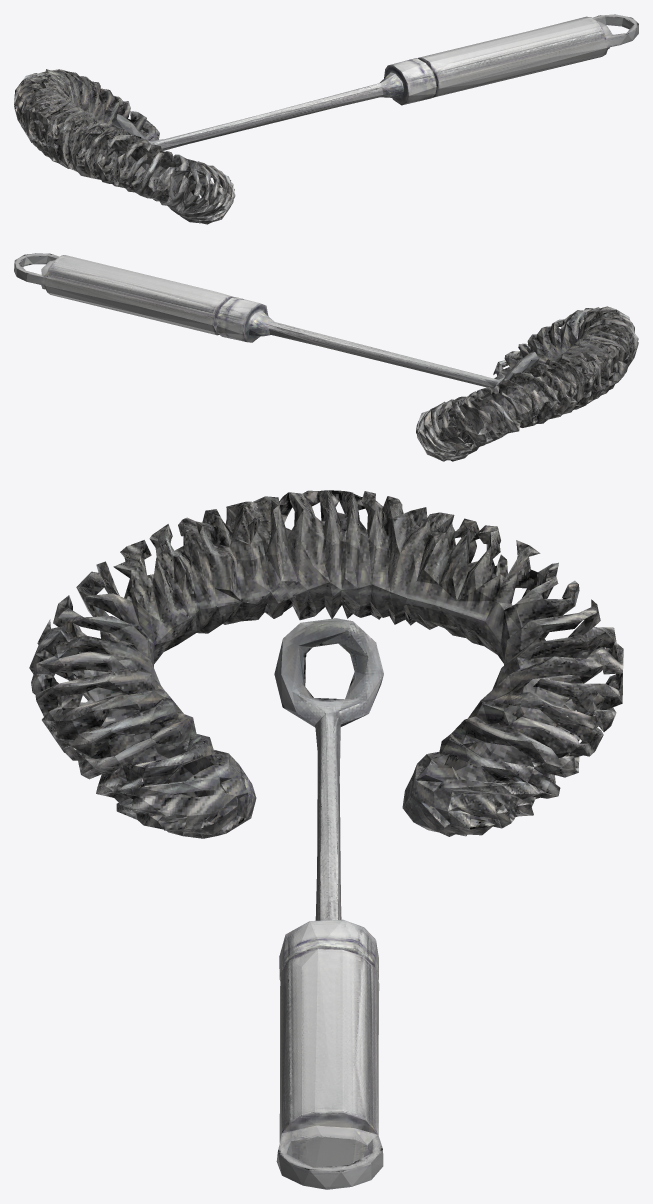
Rendered from SpiralWhisks.glb.
3 renders of one model, top to bottom at view 1: azimuth 30°, elevation 25°; view 2: azimuth 150°, elevation 25°; view 3: azimuth 270°, elevation 25°, orthographic. The views are drawn at different scales.
Parts seen in each view (by area): view 1: world; view 2: world; view 3: world.
Part boxes in pixels (x1=…): world: x1=14, y1=14, x2=638, y2=224; world: x1=14, y1=253, x2=638, y2=461; world: x1=29, y1=490, x2=623, y2=1189.
Bounding box in the file's own units: 1 × 0.1874 × 0.4328.
1 material, 1 textured.
